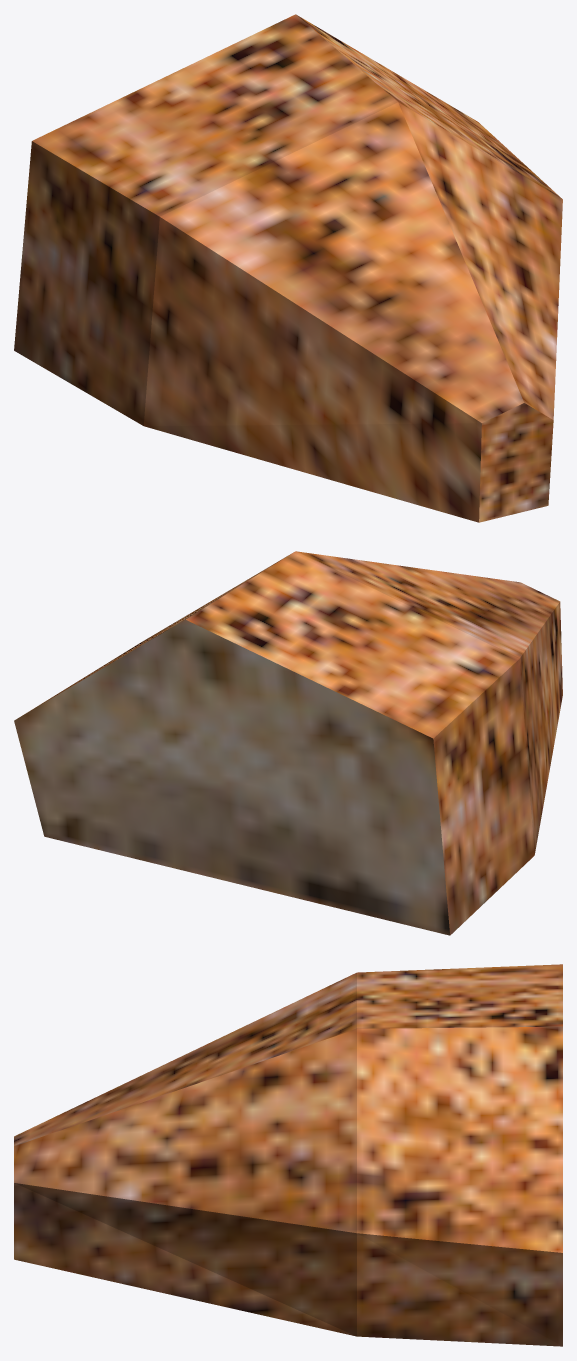
The model's file is Bread01b.obj.
The picture shows the model from 3 angles, top to bottom: view 1: azimuth 30°, elevation 25°; view 2: azimuth 150°, elevation 25°; view 3: azimuth 270°, elevation 25°; orthographic projection. The views are drawn at different scales.
Visible parts, largest first — view 1: Bread01b; view 2: Bread01b; view 3: Bread01b.
Part boxes in pixels (box(x1,y1,x2,y2)): Bread01b: box(14, 14, 562, 522); Bread01b: box(14, 551, 562, 935); Bread01b: box(14, 964, 562, 1346).
Bounding box in the file's own units: 0.1672 × 0.0921 × 0.1825.
